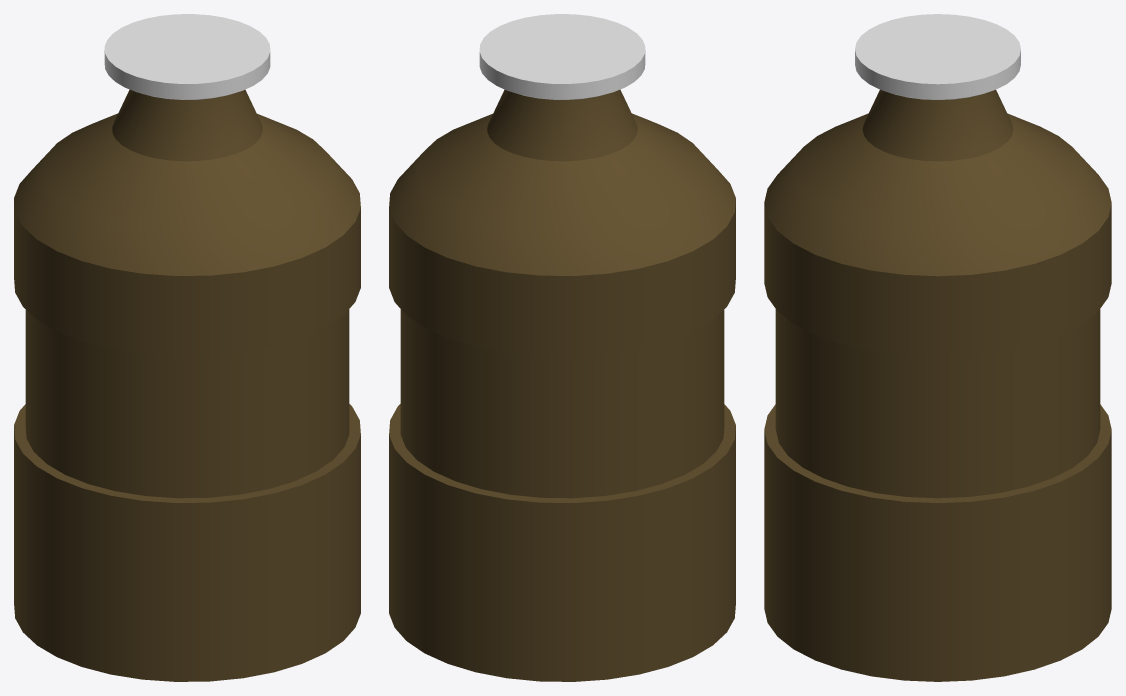
File: bottle28.glb
3 views of the same model, side by side, from view 1: azimuth 30°, elevation 25°; view 2: azimuth 150°, elevation 25°; view 3: azimuth 270°, elevation 25° (orthographic).
Visible parts, largest first — view 1: Bottle28; view 2: Bottle28; view 3: Bottle28.
Part boxes in pixels (box(x1,y1,x2,y2)): Bottle28: box(14, 14, 360, 681); Bottle28: box(389, 14, 735, 681); Bottle28: box(764, 14, 1111, 681).
Bounding box in the file's own units: 0.3469 × 0.6161 × 0.3469.
